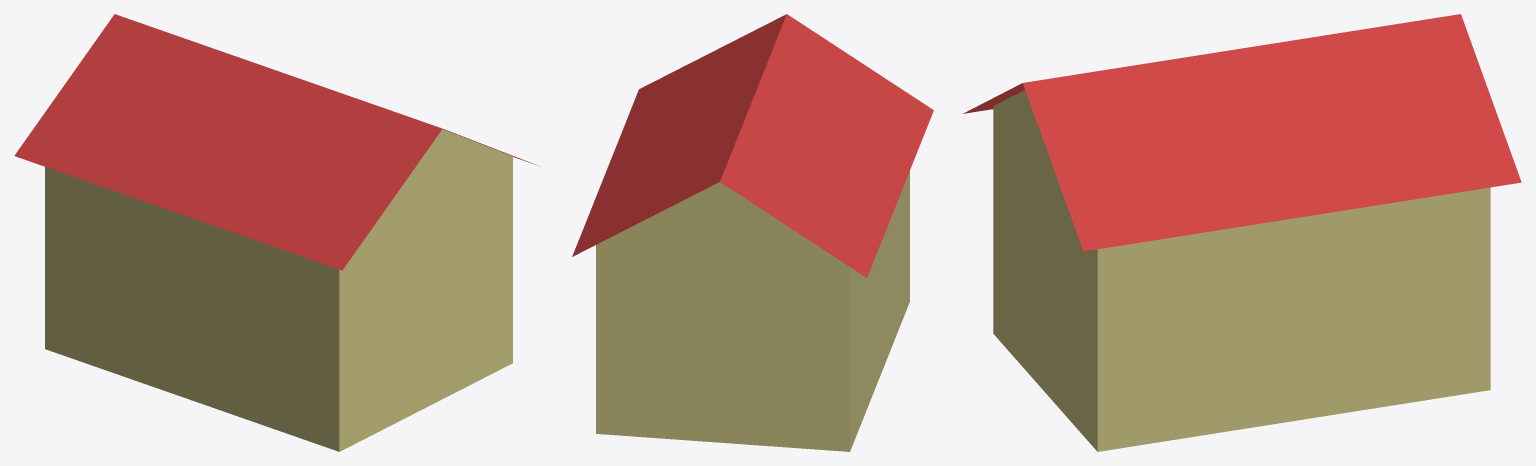
3 views of the same model, side by side, from view 1: azimuth 30°, elevation 25°; view 2: azimuth 150°, elevation 25°; view 3: azimuth 270°, elevation 25° (orthographic). The views are drawn at different scales.
Bounding box in the file's own units: 15.24 × 17.45 × 10.78.
